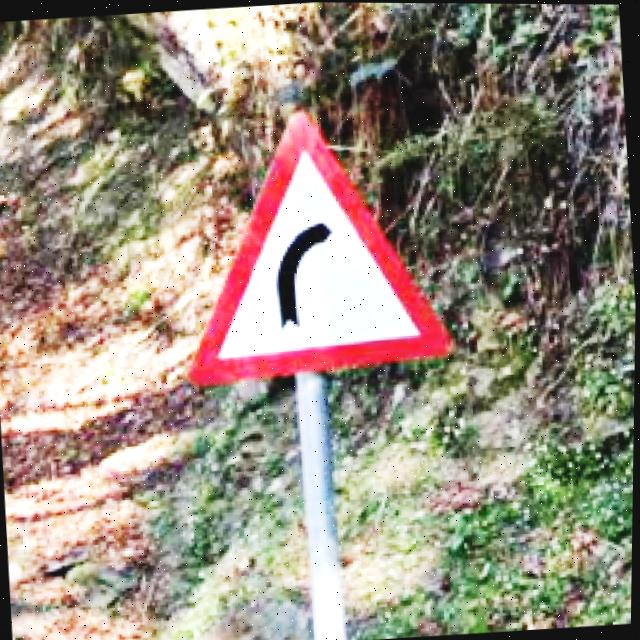rightbend: (191, 112, 454, 385)
